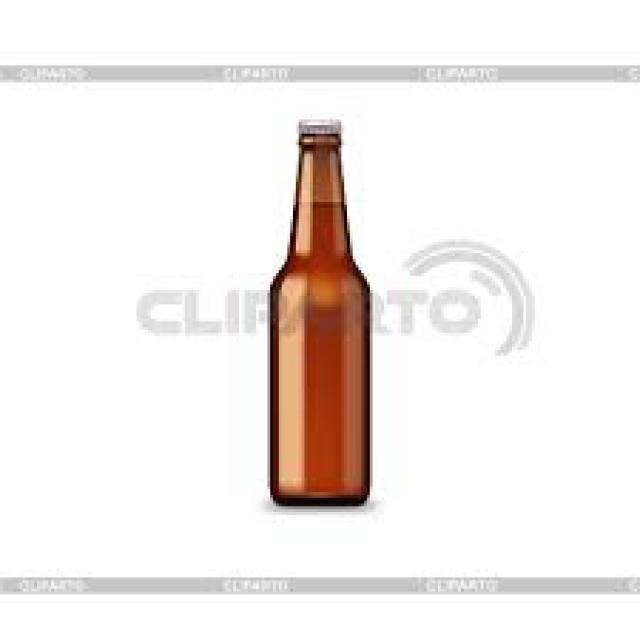glass: (265, 134, 370, 504)
metal: (293, 114, 336, 131)
